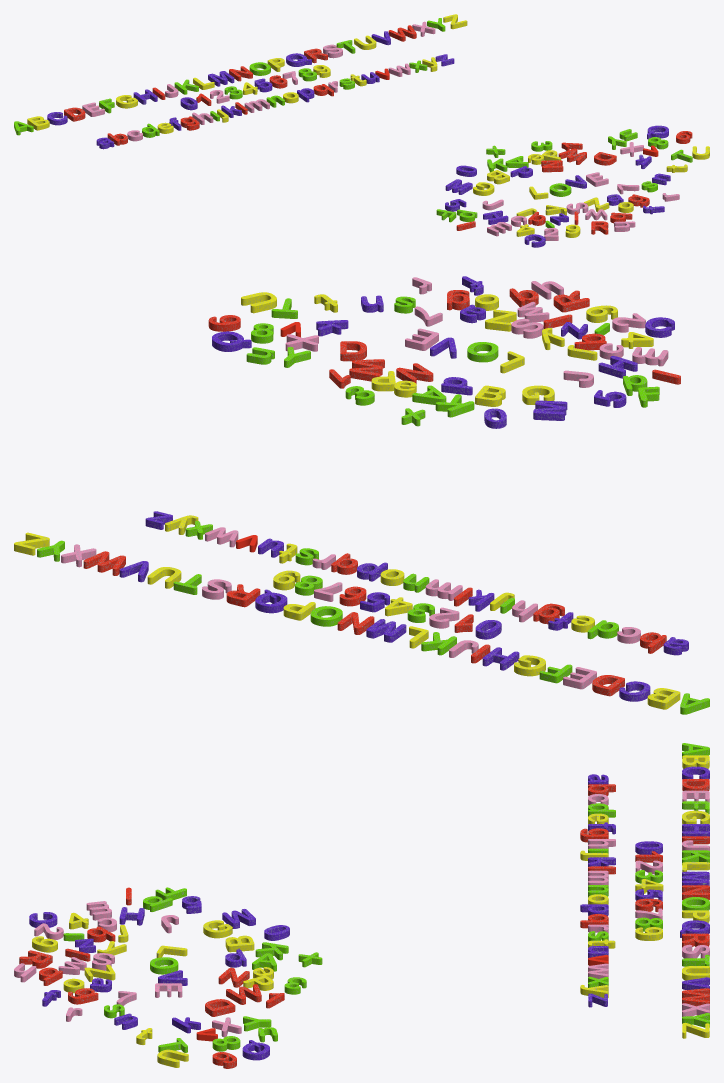
The model's file is Alphabet.dae.
The picture shows the model from 3 angles, top to bottom: view 1: azimuth 30°, elevation 25°; view 2: azimuth 150°, elevation 25°; view 3: azimuth 270°, elevation 25°; orthographic projection. The views are drawn at different scales.
Size of the model in its own units: 32.65 by 29.72 by 0.4253.
